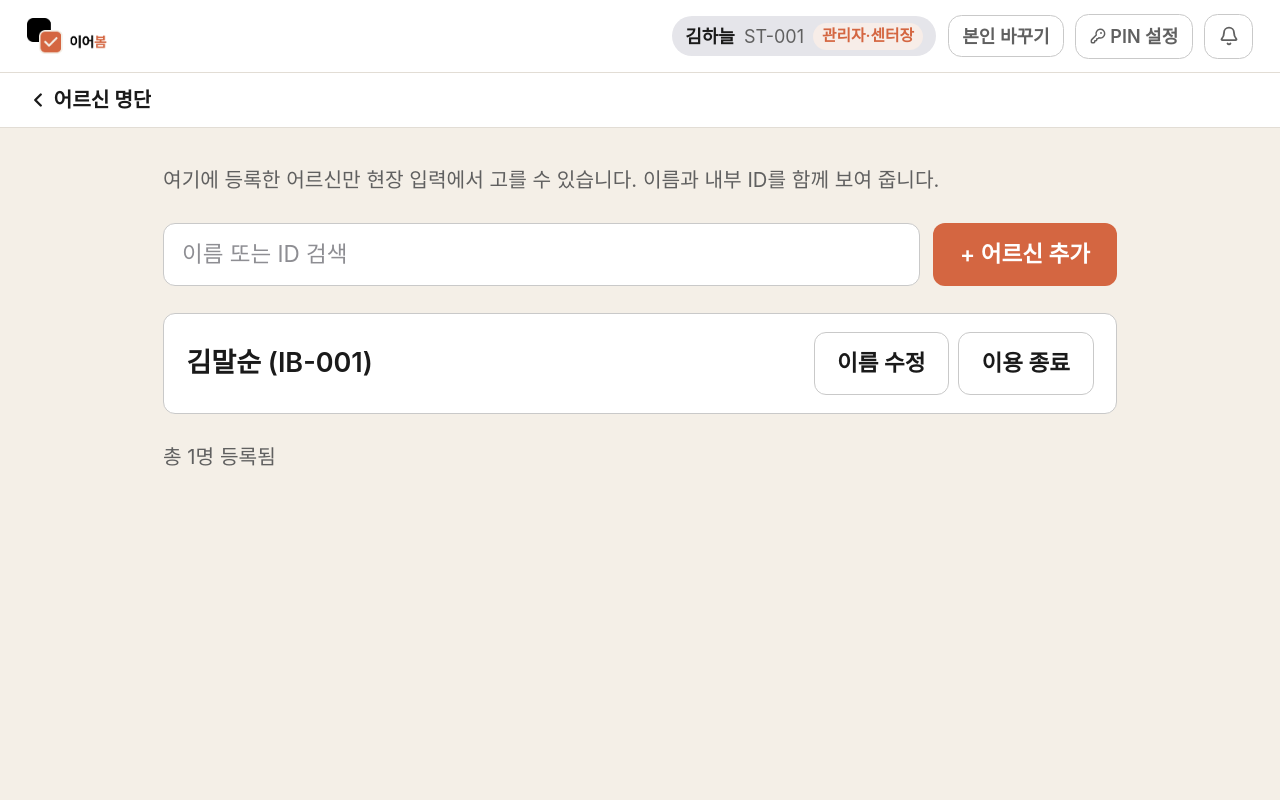
Test: 어르신 등록 (n51 · n52 · n53) › 이름이 비어 있으면 저장하지 않고 이름을 입력하도록 안내한다
Expected: the text "김말순 (IB-001)" is shown, [186, 345, 373, 381]
Click the button "+ 어르신 추가". click: (1025, 254)
box: [933, 222, 1117, 286]
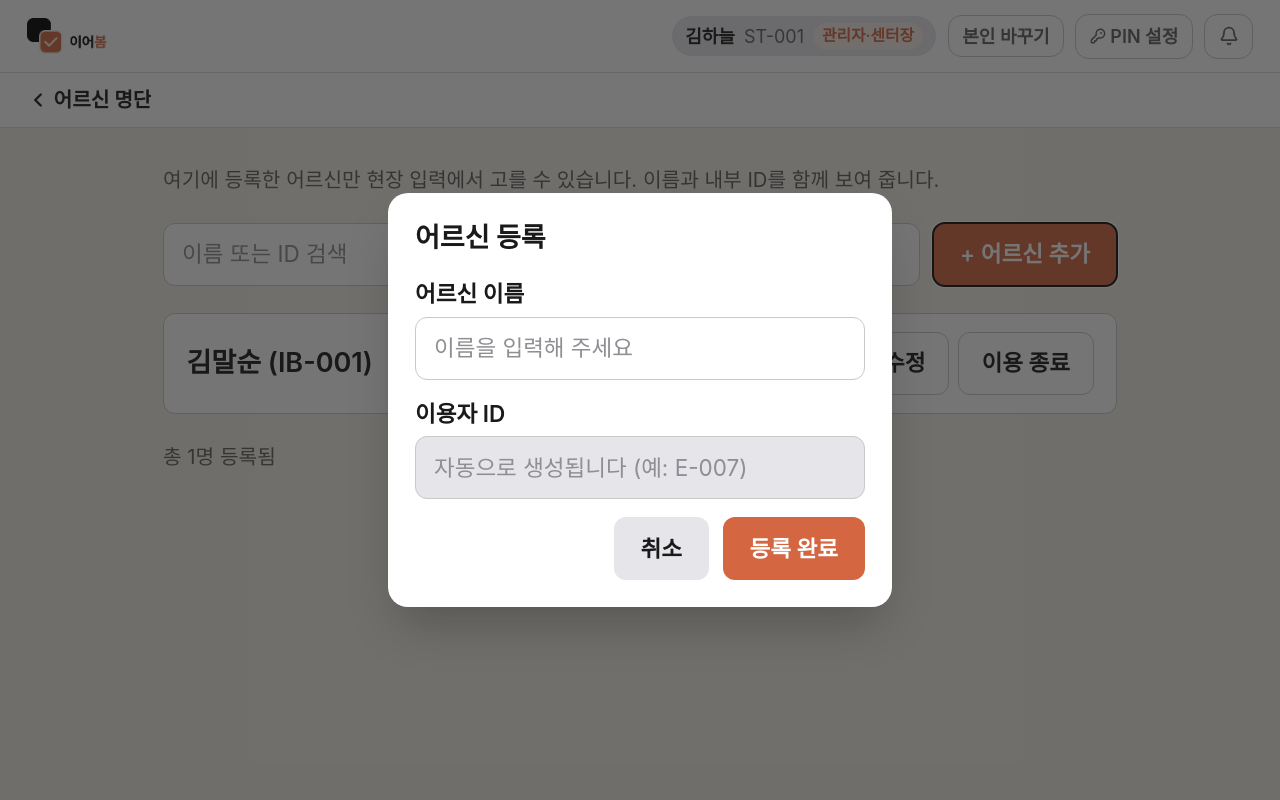
Click the button "등록 완료". click: (794, 548)
box: [722, 517, 865, 580]
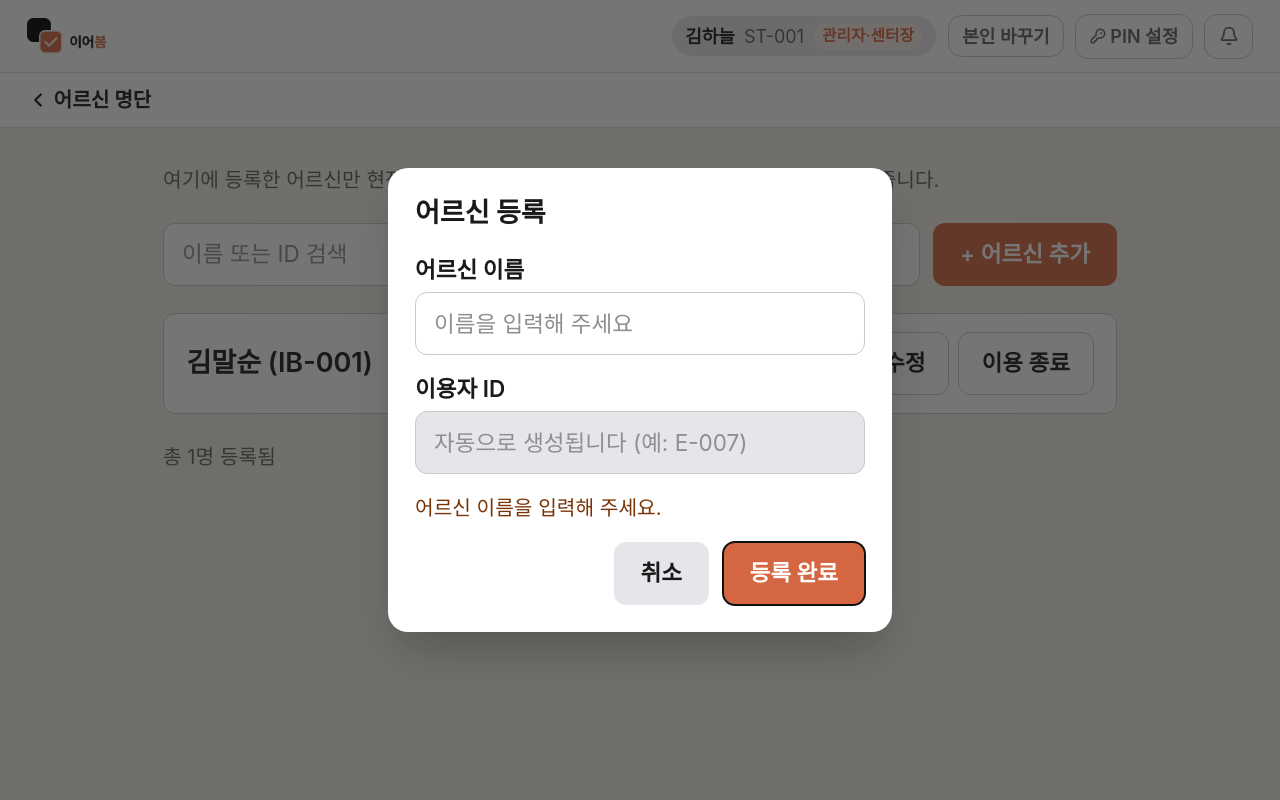
Result: the message reads "어르신 이름을 입력해 주세요." at [415, 495, 662, 520]
